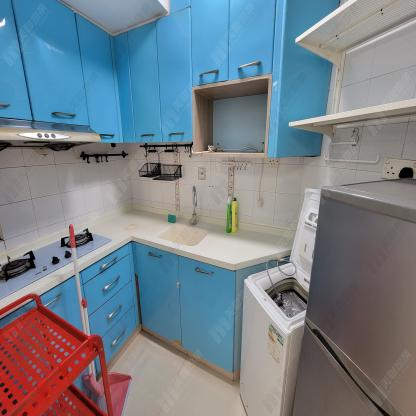Cupboard: (5, 0, 289, 165), (41, 243, 242, 382)
Exhaust Hood: (0, 116, 104, 154)
Faucet: (188, 184, 200, 226)
Fridge: (291, 178, 416, 416)
Sink: (155, 222, 208, 247)
Stove: (2, 227, 111, 298)
Washing Machine: (239, 187, 322, 416)
